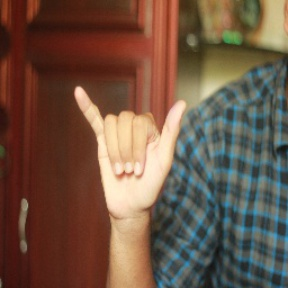J: (70, 80, 194, 218)
